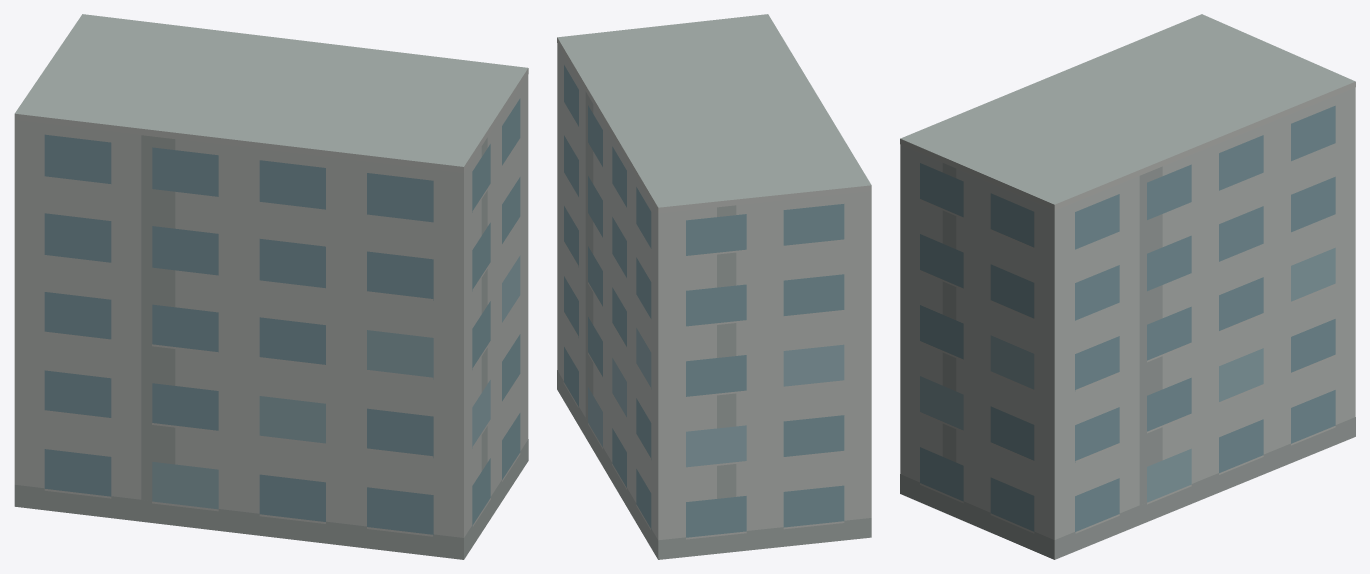
The model's file is survey-upis-32881708.glb.
The picture shows the model from 3 angles, left to right: view 1: azimuth 30°, elevation 25°; view 2: azimuth 150°, elevation 25°; view 3: azimuth 270°, elevation 25°; orthographic projection. The views are drawn at different scales.
Visible parts, largest first — view 1: survey-upis-32881708.tmp; view 2: survey-upis-32881708.tmp; view 3: survey-upis-32881708.tmp.
Part boxes in pixels (x1,y1,x2,y2): survey-upis-32881708.tmp: (14,14,528,559); survey-upis-32881708.tmp: (557,14,871,559); survey-upis-32881708.tmp: (900,14,1355,559).
Size of the model in its own units: 16.99 by 14.75 by 17.16.
